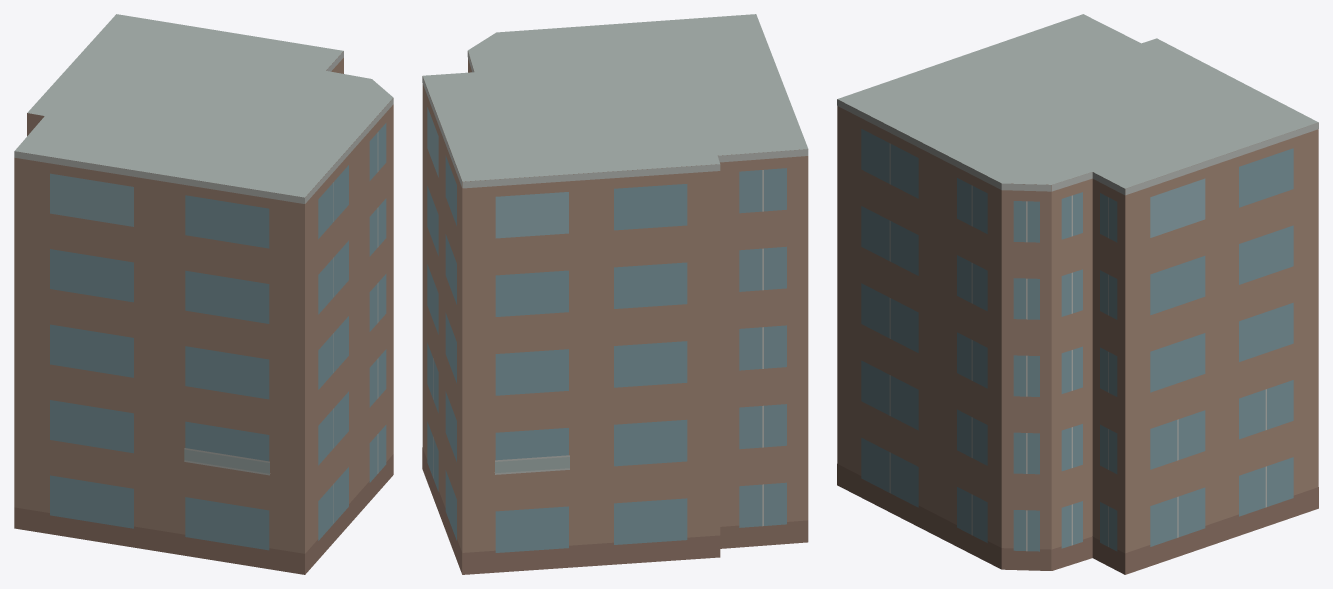
Rendered from survey-upis-32848855.glb.
3 views of the same model, side by side, from view 1: azimuth 30°, elevation 25°; view 2: azimuth 150°, elevation 25°; view 3: azimuth 270°, elevation 25° (orthographic). The views are drawn at different scales.
Visible parts, largest first — view 1: survey-upis-32848855.tmp; view 2: survey-upis-32848855.tmp; view 3: survey-upis-32848855.tmp.
Part boxes in pixels (x1,y1,x2,y2): survey-upis-32848855.tmp: [14, 14, 393, 574]; survey-upis-32848855.tmp: [422, 14, 808, 574]; survey-upis-32848855.tmp: [837, 14, 1318, 574].
Size of the model in its own units: 13.59 by 14 by 15.83.
